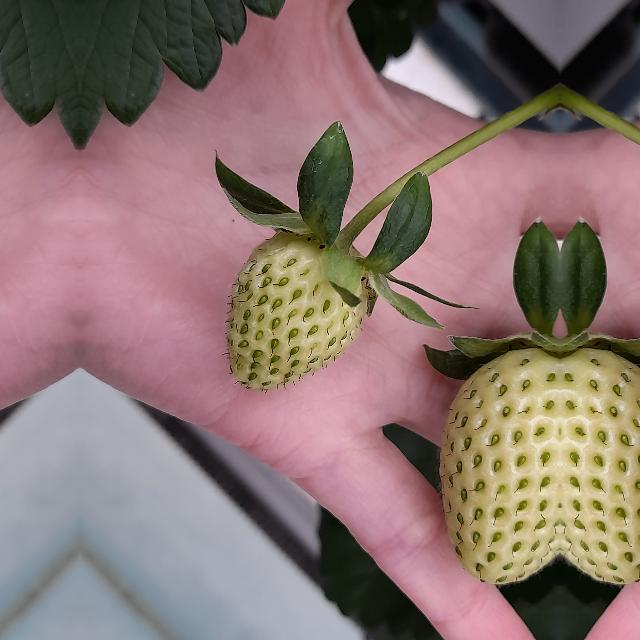Health_25: (435, 342, 559, 588), (225, 229, 367, 389), (561, 342, 640, 588)
